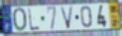0: (79, 6, 94, 30)
4: (97, 5, 108, 29)
7: (45, 5, 57, 32)
L: (28, 7, 41, 32)
O: (11, 7, 28, 33)
V: (59, 5, 75, 30)
